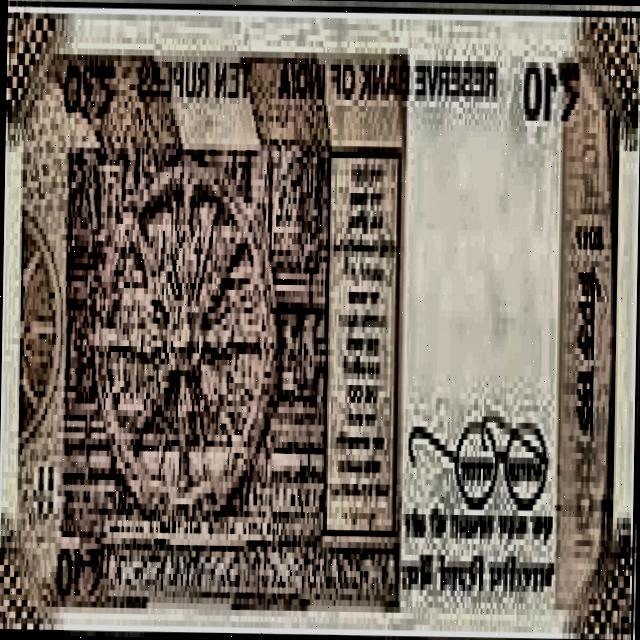-10-: (7, 9, 637, 633)
